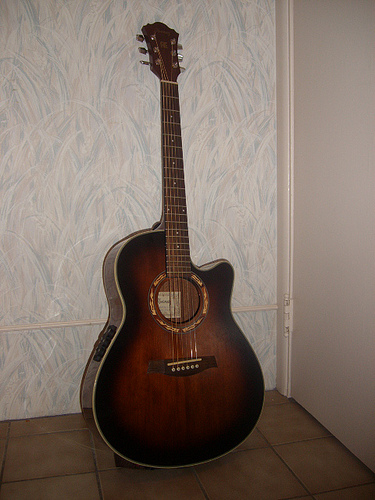guitar: (77, 21, 266, 472)
